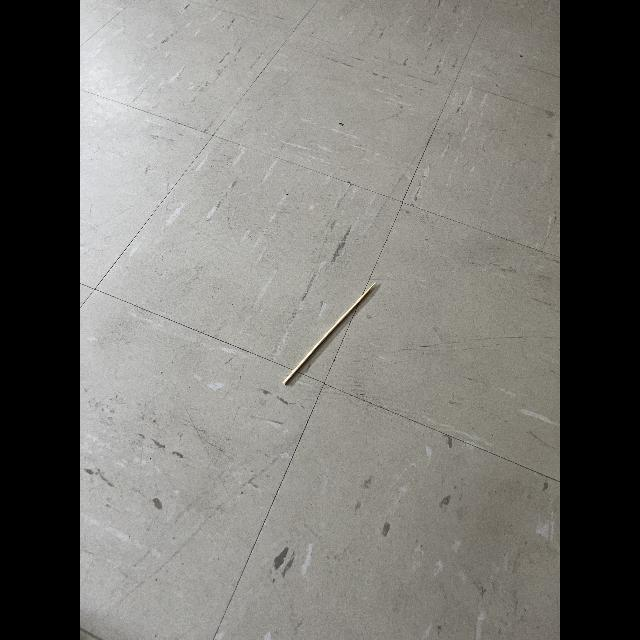stick: (277, 275, 401, 395)
